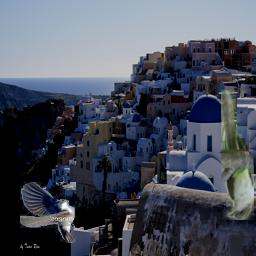Cuckoo: (221, 90, 254, 220)
Swallow: (20, 182, 76, 243)
